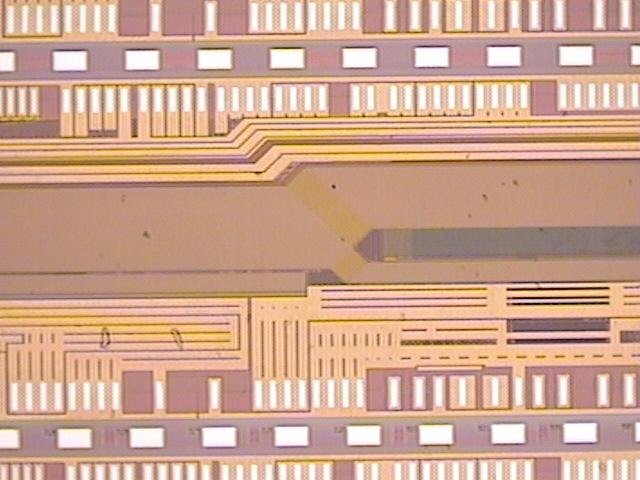PO CONTAMINATION: (98, 180, 457, 355), (397, 105, 640, 325)
